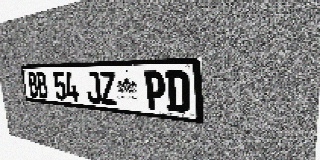4: (64, 72, 79, 102)
5: (53, 72, 67, 101)
B: (36, 72, 49, 99), (27, 72, 39, 98)
D: (165, 70, 190, 113)
J: (85, 71, 102, 104)
P: (144, 71, 166, 111)
Z: (99, 71, 117, 106)
